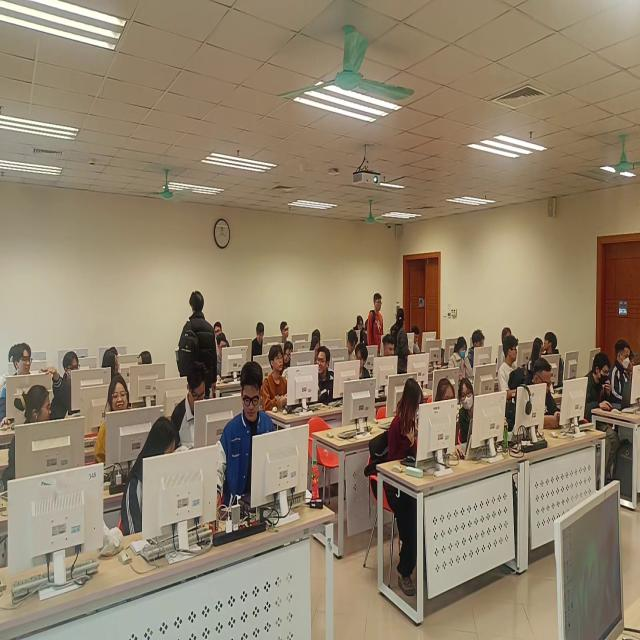raise_hand: (4, 367, 71, 495)
raise_head: (96, 374, 132, 467), (1, 343, 36, 427), (262, 345, 289, 412), (63, 353, 82, 412), (281, 320, 291, 345)
stand: (178, 291, 218, 402), (391, 307, 411, 375), (369, 293, 385, 359), (355, 316, 366, 342)
using_computer: (217, 362, 278, 528), (123, 415, 179, 538), (172, 361, 211, 455), (389, 377, 424, 466), (530, 360, 564, 431), (582, 353, 612, 425), (459, 378, 478, 444), (611, 342, 630, 403), (449, 336, 473, 382), (1, 344, 20, 399), (527, 337, 545, 383), (626, 344, 640, 396), (469, 330, 487, 370), (217, 333, 229, 382), (437, 376, 456, 402), (346, 328, 359, 363), (282, 339, 294, 369), (383, 334, 397, 357), (413, 325, 423, 354), (311, 336, 322, 354), (503, 327, 512, 343)
